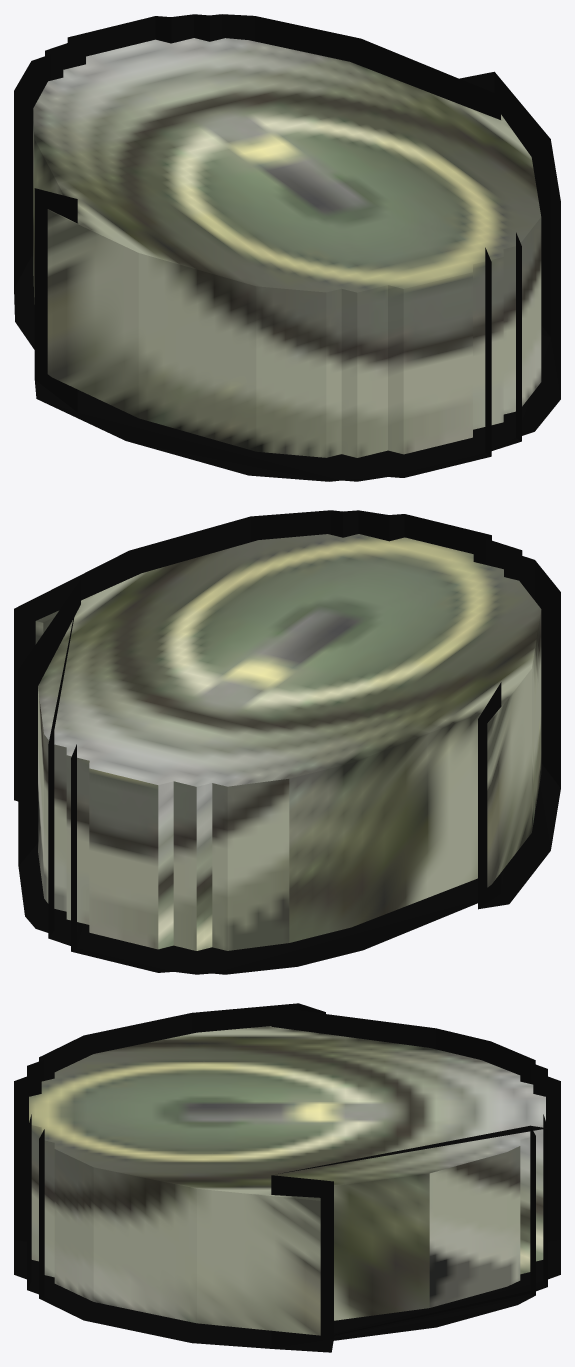
File: Building_MechDropBeacon_Things_Building_Mech_MechDropBeacon.glb
3 views of the same model, one above another, from view 1: azimuth 30°, elevation 25°; view 2: azimuth 150°, elevation 25°; view 3: azimuth 270°, elevation 25° (orthographic). The views are drawn at different scales.
Parts seen in each view (by area): view 1: Body, Outline; view 2: Body, Outline; view 3: Body, Outline.
Boxes of the visible parts, x1,y1,x2,y2 form: Body: (33,38,541,457); Outline: (14,14,560,481); Body: (35,534,541,950); Outline: (14,510,560,974); Body: (29,1026,545,1335); Outline: (14,1003,560,1352).
Bounding box in the file's own units: 0.9705 × 0.4137 × 1.18.
Materials: 2 (1 with a texture image).
